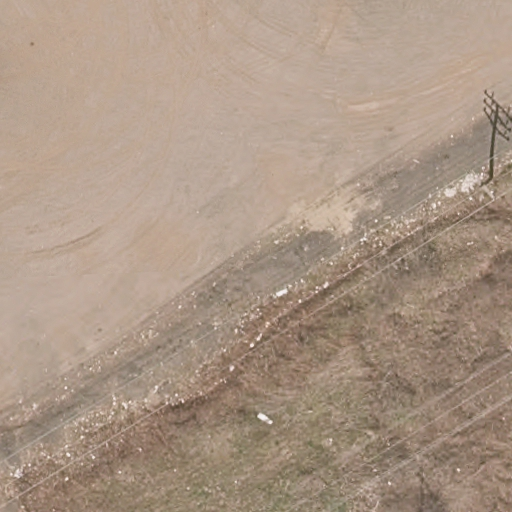DT: (461, 171, 498, 204)
